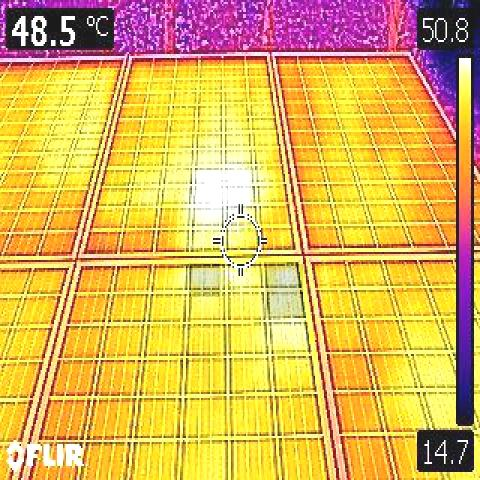fault: (265, 264, 303, 318), (194, 170, 250, 206), (190, 263, 222, 297)
